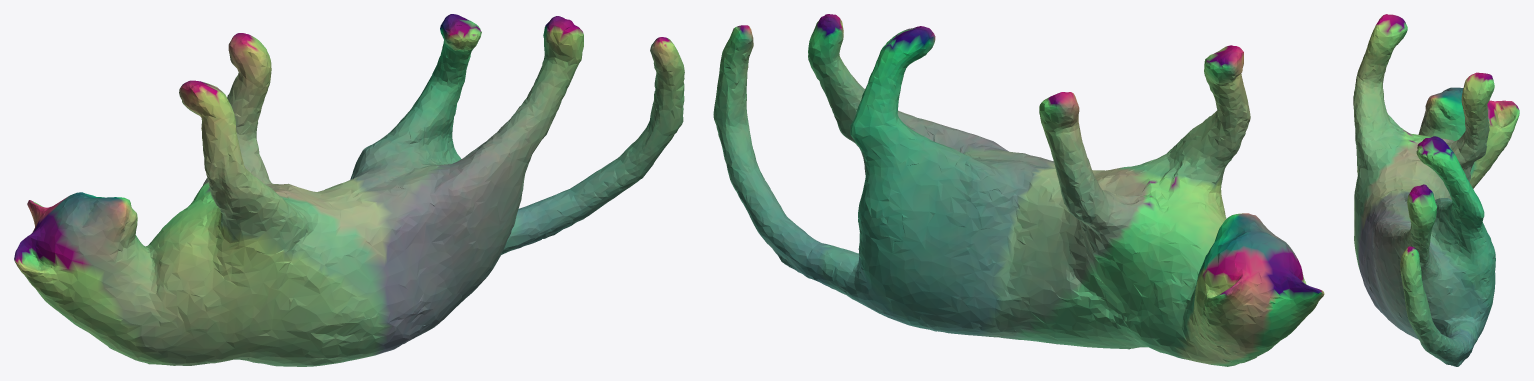
The model's file is cat-14.off.obj.
3 views of the same model, side by side, from view 1: azimuth 30°, elevation 25°; view 2: azimuth 150°, elevation 25°; view 3: azimuth 270°, elevation 25° (orthographic). The views are drawn at different scales.
Bounding box in the file's own units: 1.67 × 0.804 × 0.5127.
